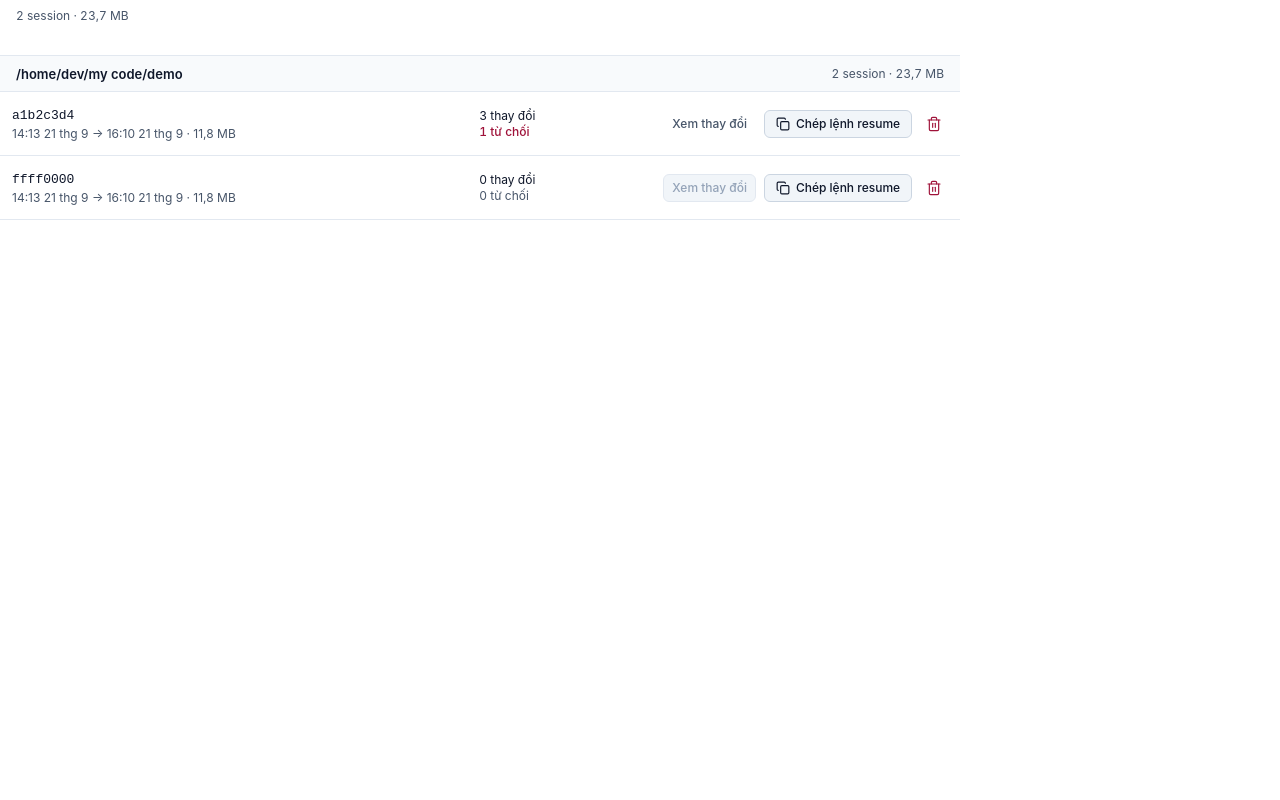
Test: <SessionsPage /> › UC-004 / E1: a path that could not be moved is listed in a notice with its reason
Expected: the text "a1b2c3d4" is shown, [12, 108, 74, 122]
What coordinates should you click on to do the following:
click the button named "Chuyển vào Thùng rác" in the row of "a1b2c3d4"
I would click on:
 (934, 124)
Its box is [920, 110, 948, 138].
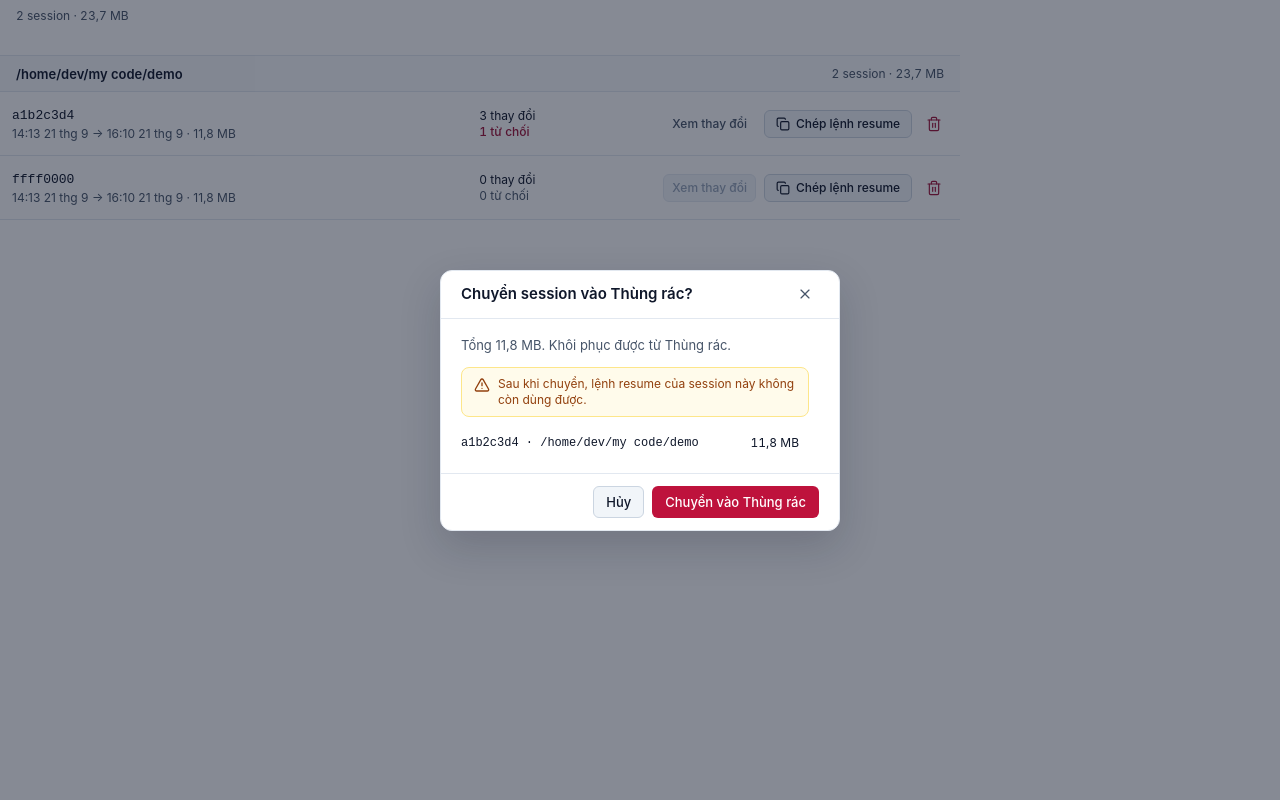
What coordinates should you click on to do the following:
click the button "Chuyển vào Thùng rác"
I would click on:
 (736, 502)
Its box is [652, 486, 819, 518].
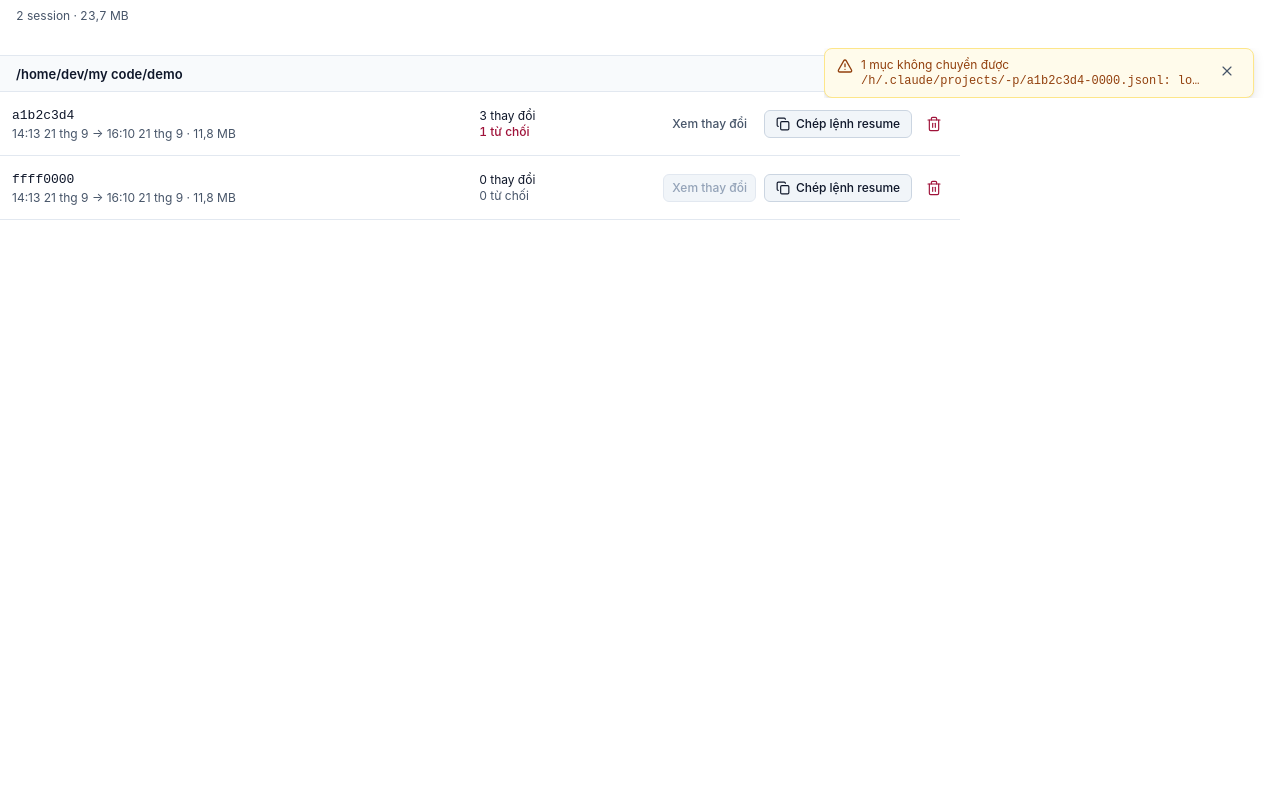
Expected: the text "1 mục không chuyển được" is shown, [861, 57, 1205, 89]
Expected: the list item "/h/.claude/projects/-p/a1b2c3d4-0000.jsonl: locked" is shown, [861, 73, 1205, 89]
